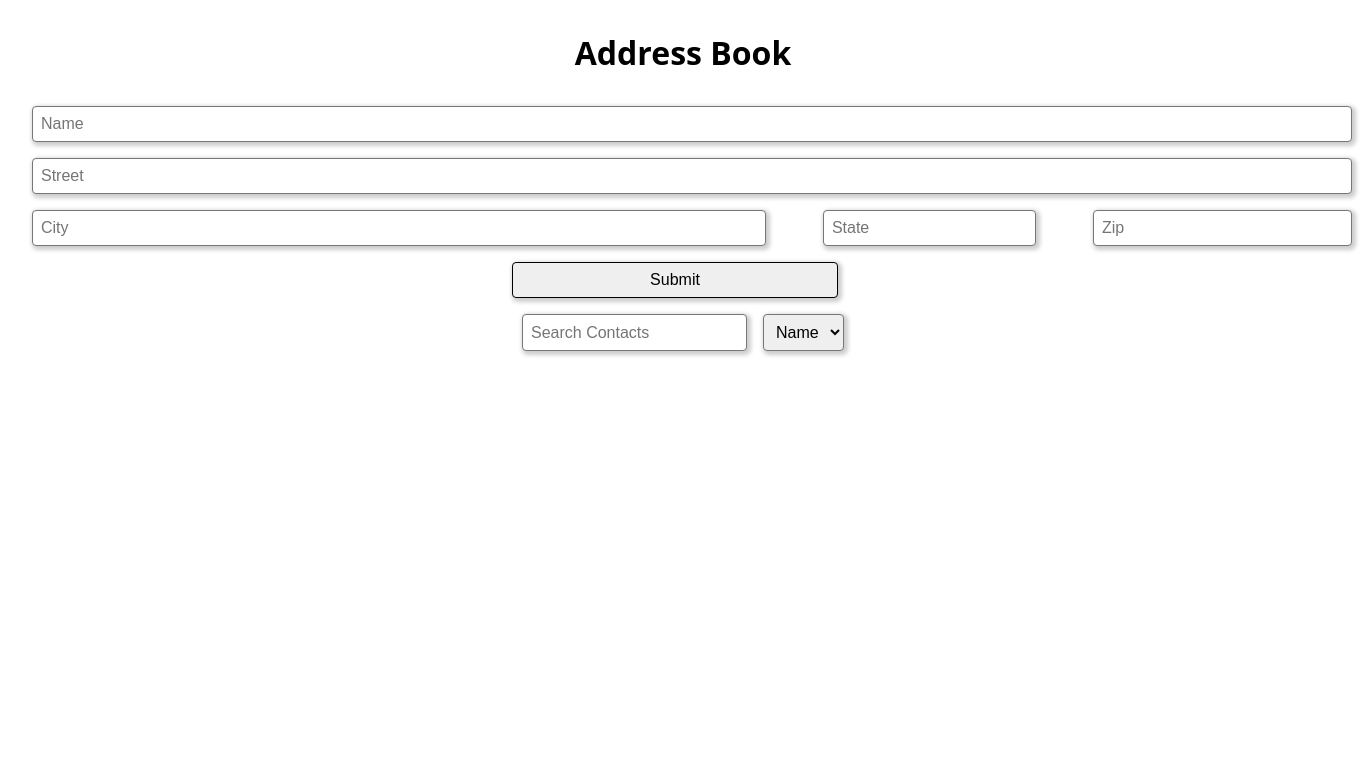
Test case: Address Form › should add a contact
This screenshot has width=1366, height=768.
In the field with test id "name": (692, 124) [32,106,1352,142], type "Aria"
In the field with test id "street": (692, 176) [32,158,1352,194], type "2700 Commerce"
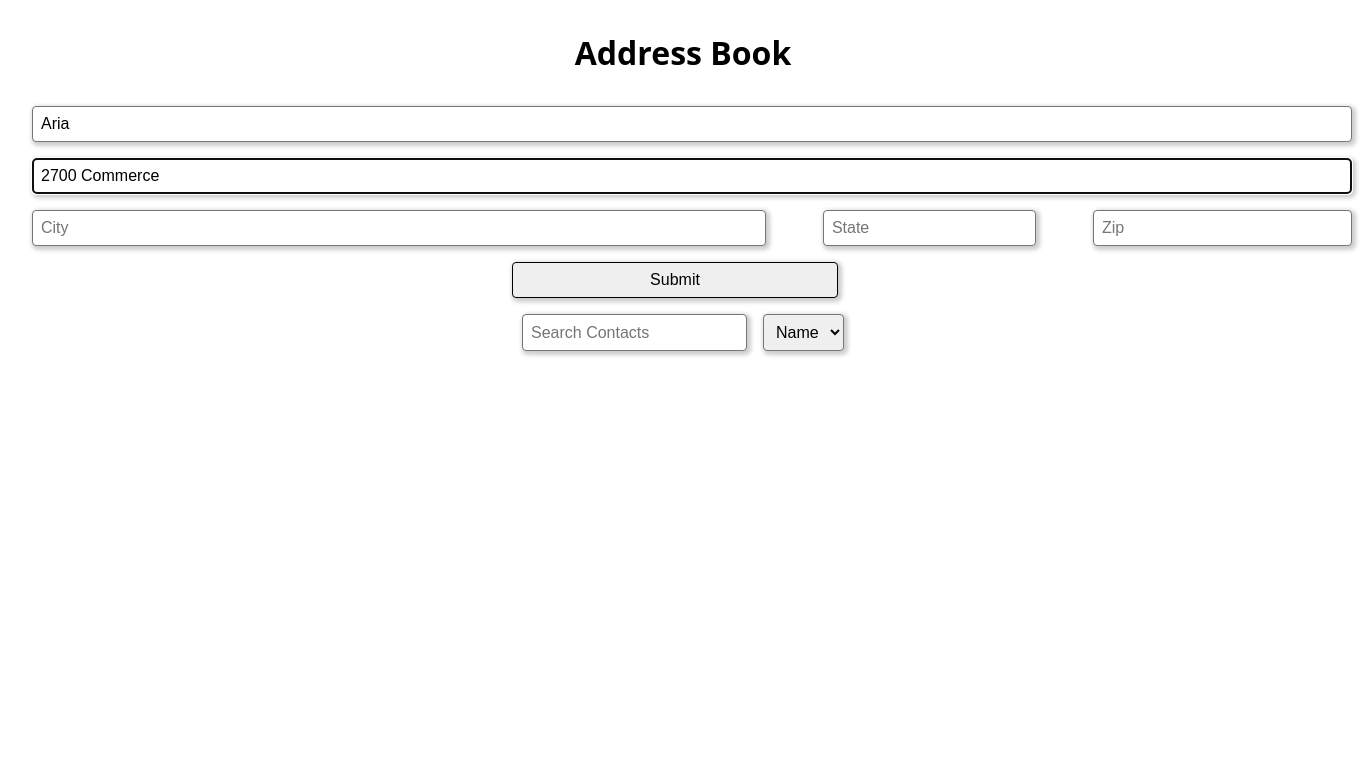
In the field with test id "city" showing "City": (399, 228) [32,210,766,246], type "Dallas"
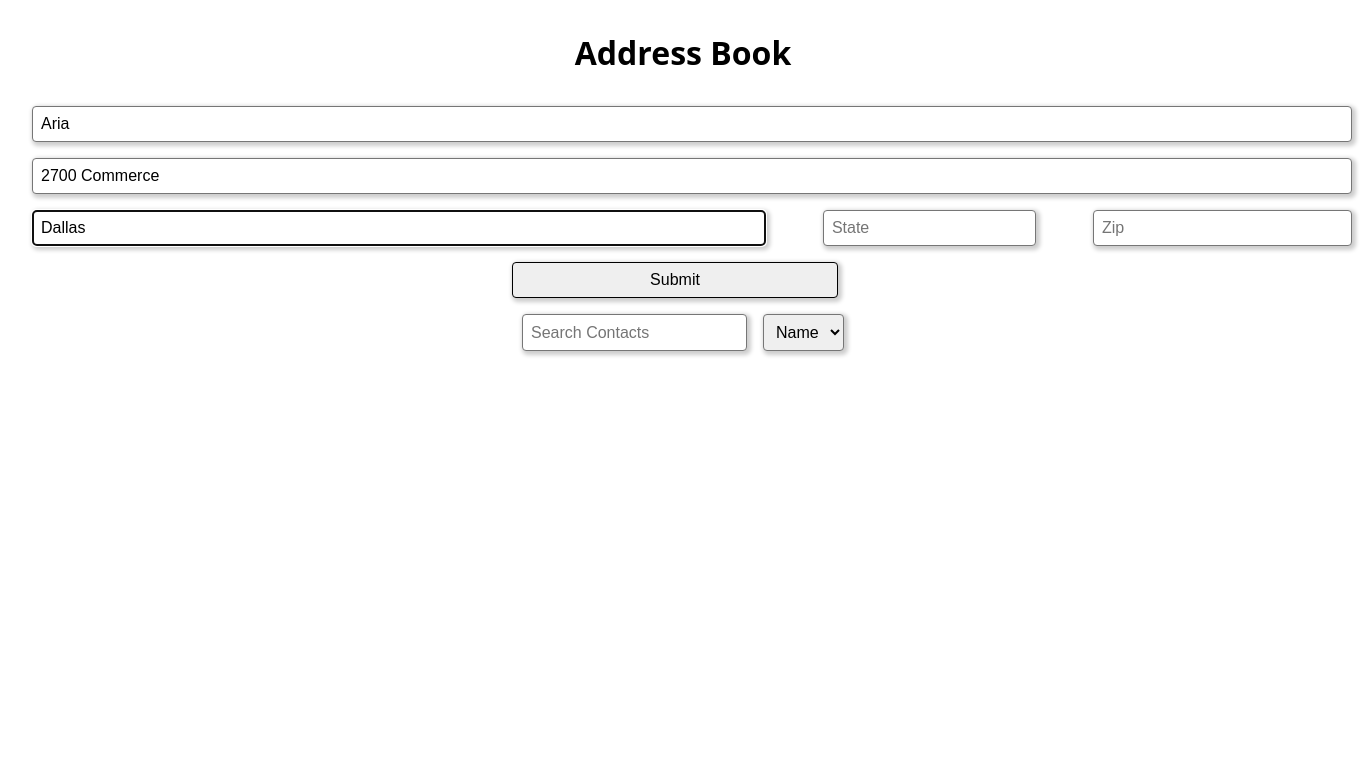
In the field with test id "stateName" showing "State": (930, 228) [823,210,1036,246], type "Texas"
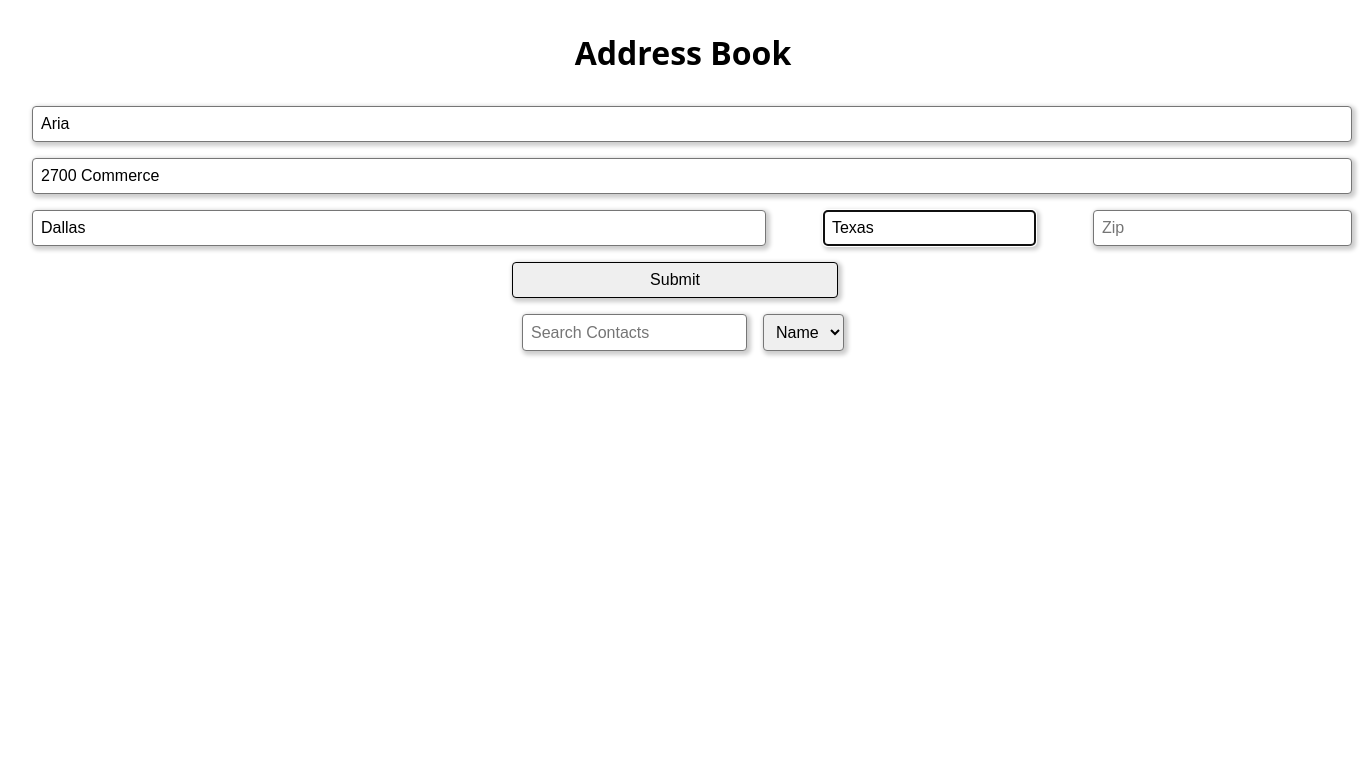
In the field with test id "zip" showing "Zip": (1223, 228) [1093,210,1352,246], type "75226"
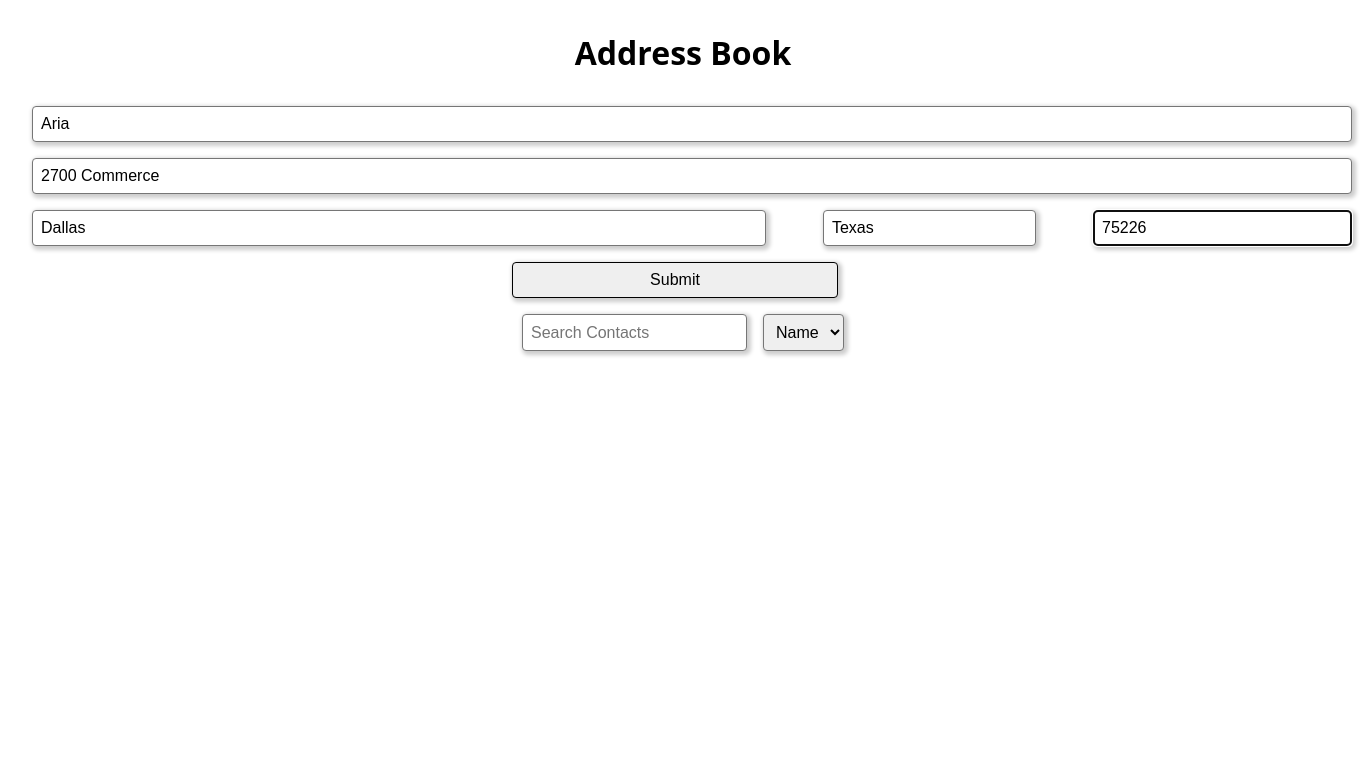
Click the button with class "submit-btn": (675, 280) [512,262,838,298]
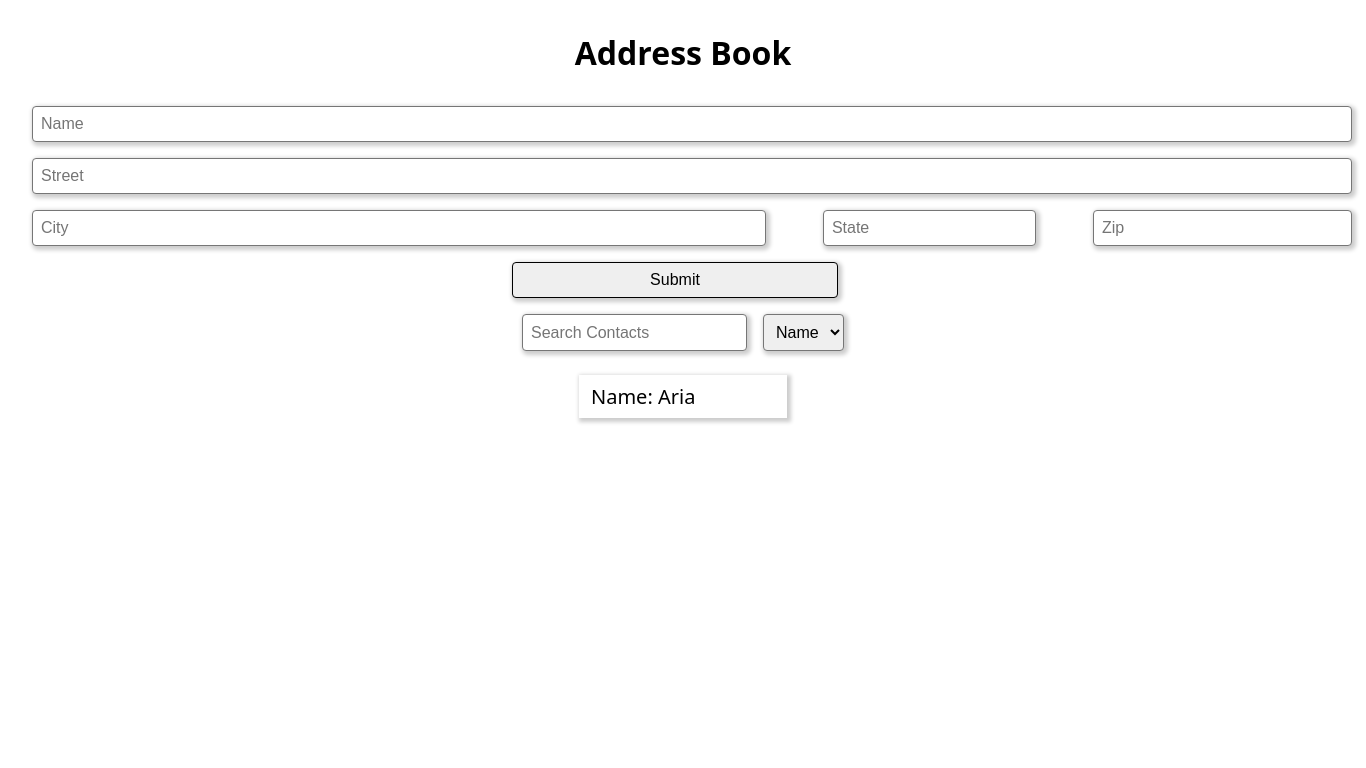
Click the element showing "Name: Aria": (683, 397) [579,375,787,418]
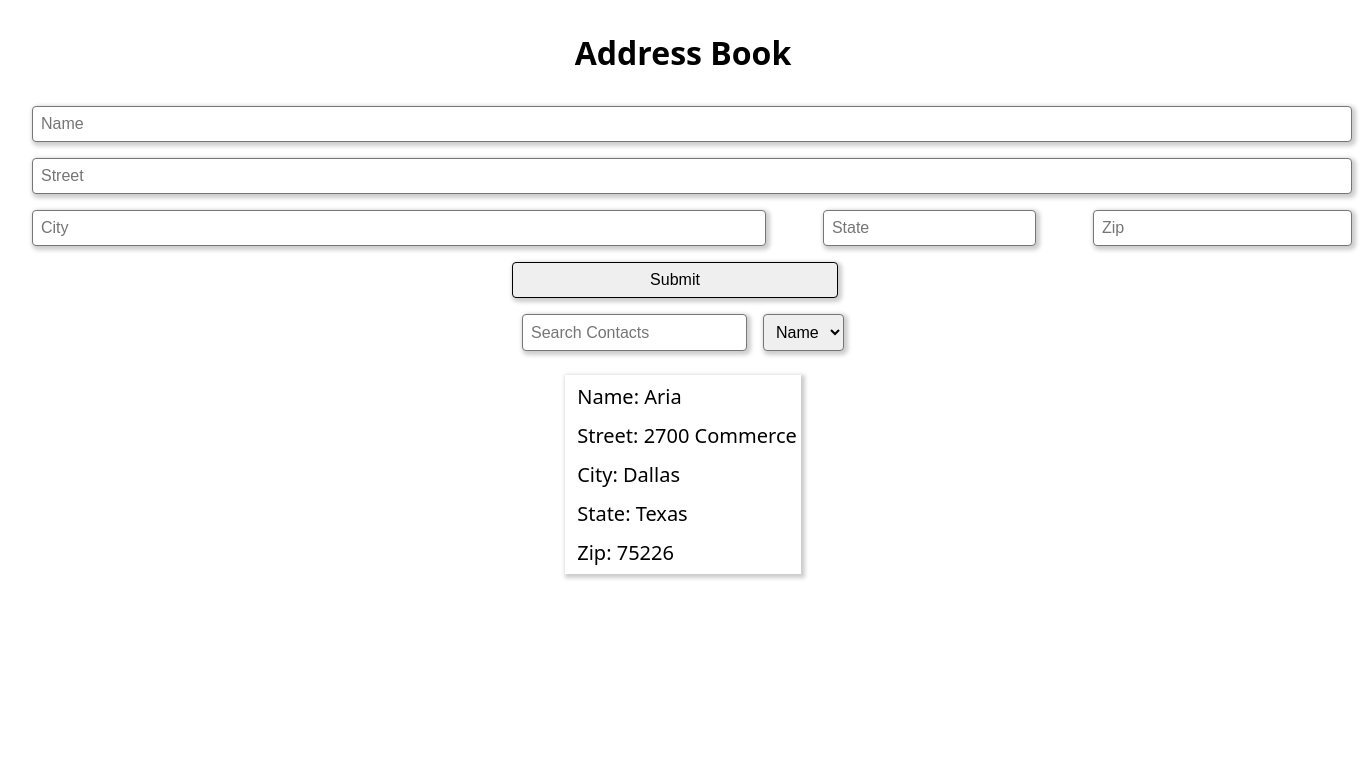
Check: the text "Aria" is shown, box [644,383,682,410]
Check: the text "2700 Commerce" is shown, box [644,422,797,449]
Check: the text "Dallas" is shown, box [623,461,680,488]
